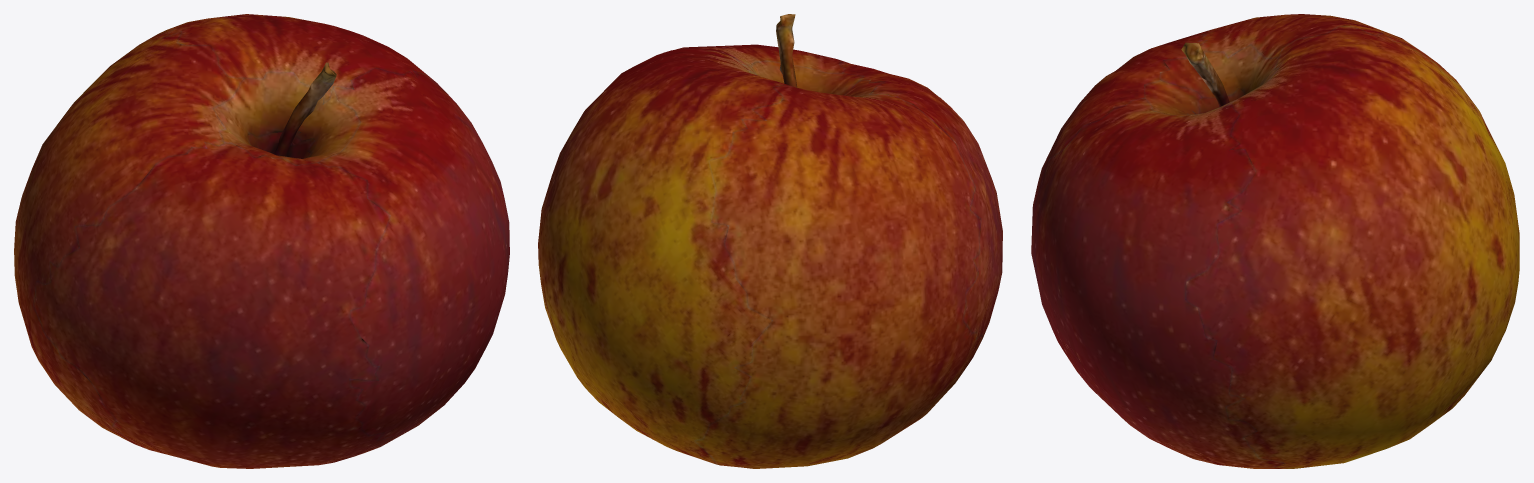
Rendered from food_apple_01.glb.
3 views of the same model, side by side, from view 1: azimuth 30°, elevation 25°; view 2: azimuth 150°, elevation 25°; view 3: azimuth 270°, elevation 25° (orthographic). The views are drawn at different scales.
Parts seen in each view (by area): view 1: food_apple_01; view 2: food_apple_01; view 3: food_apple_01.
Boxes of the visible parts, <box> form: food_apple_01: <box>14,14,509,468</box>; food_apple_01: <box>538,14,1002,468</box>; food_apple_01: <box>1031,14,1519,468</box>.
Bounding box in the file's own units: 0.0972 × 0.0854 × 0.0958.
1 material, 1 textured.
